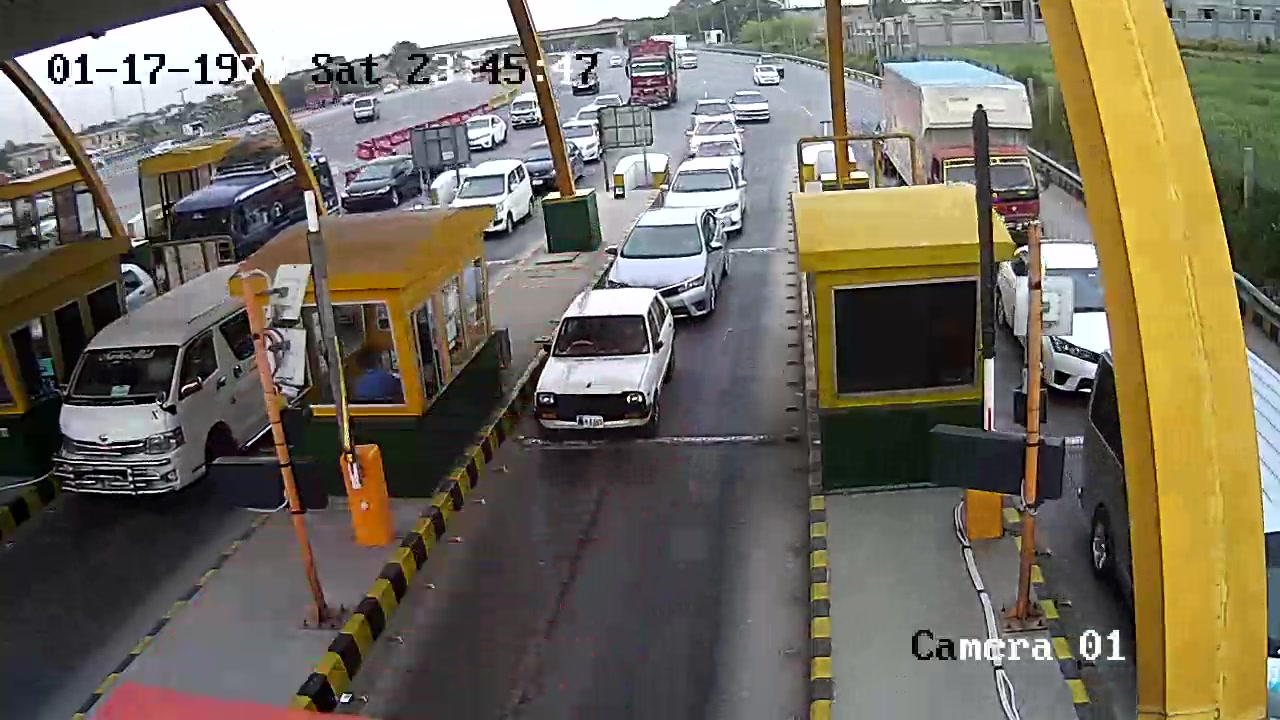F1: (527, 283, 686, 442)
